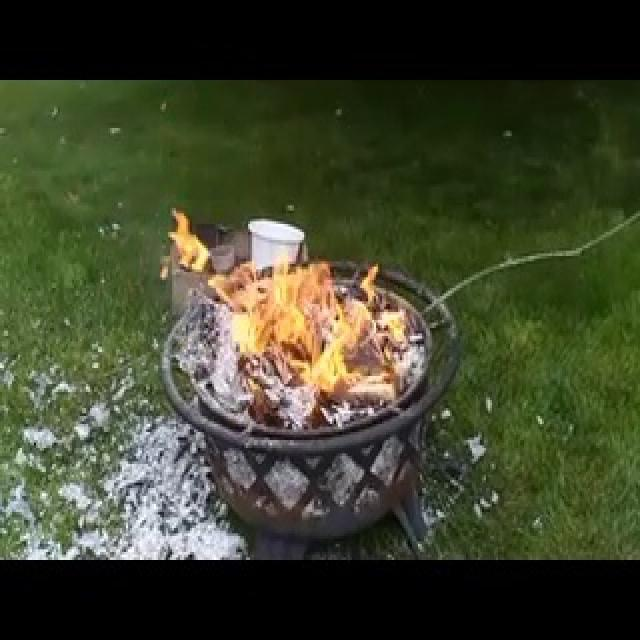fire: (139, 168, 419, 422)
